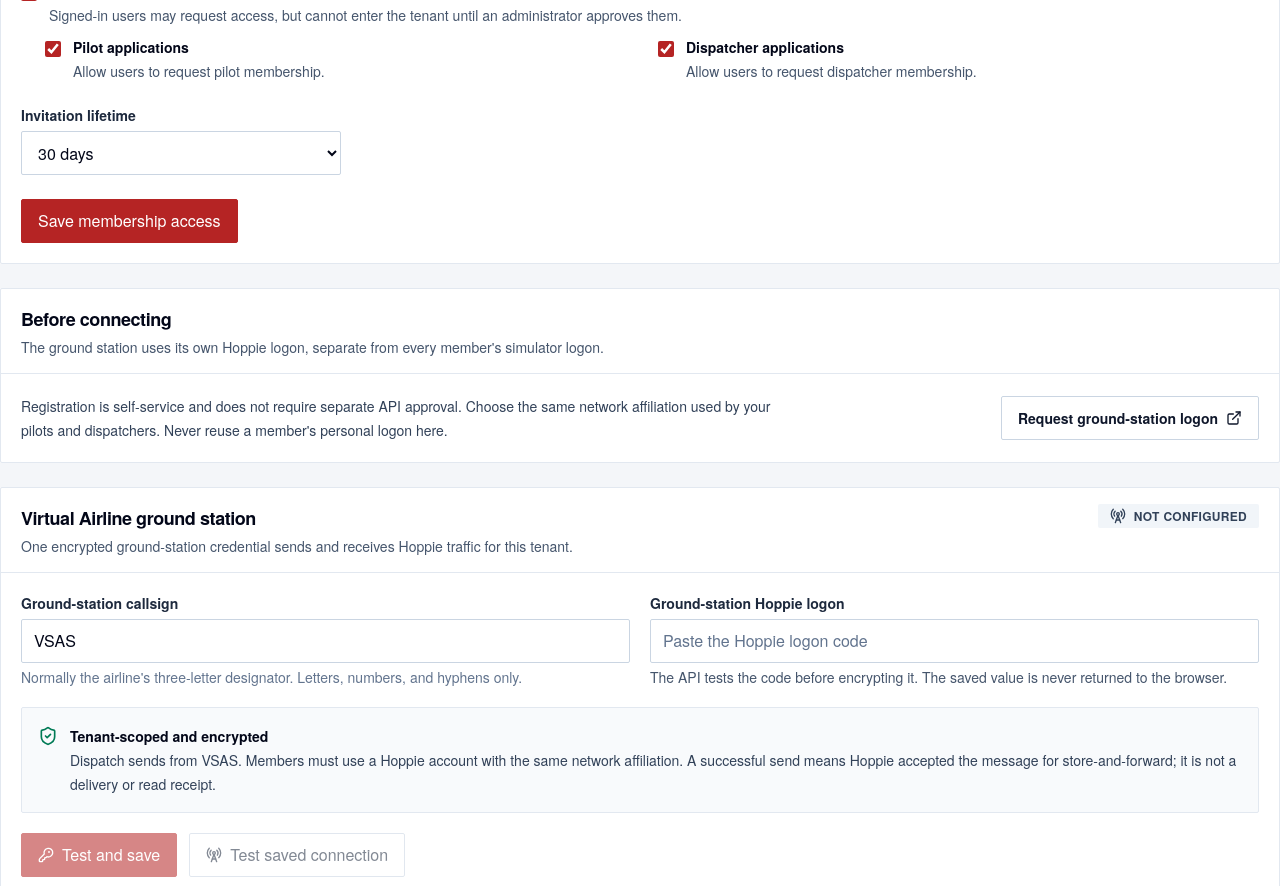
organization settings › tests and saves the tenant ground-station credential
This screenshot has width=1280, height=886.
(page scrolled)
Replace the text in the field labelled "Ground-station callsign" with "sas" at (326, 641), box [21, 619, 630, 663]
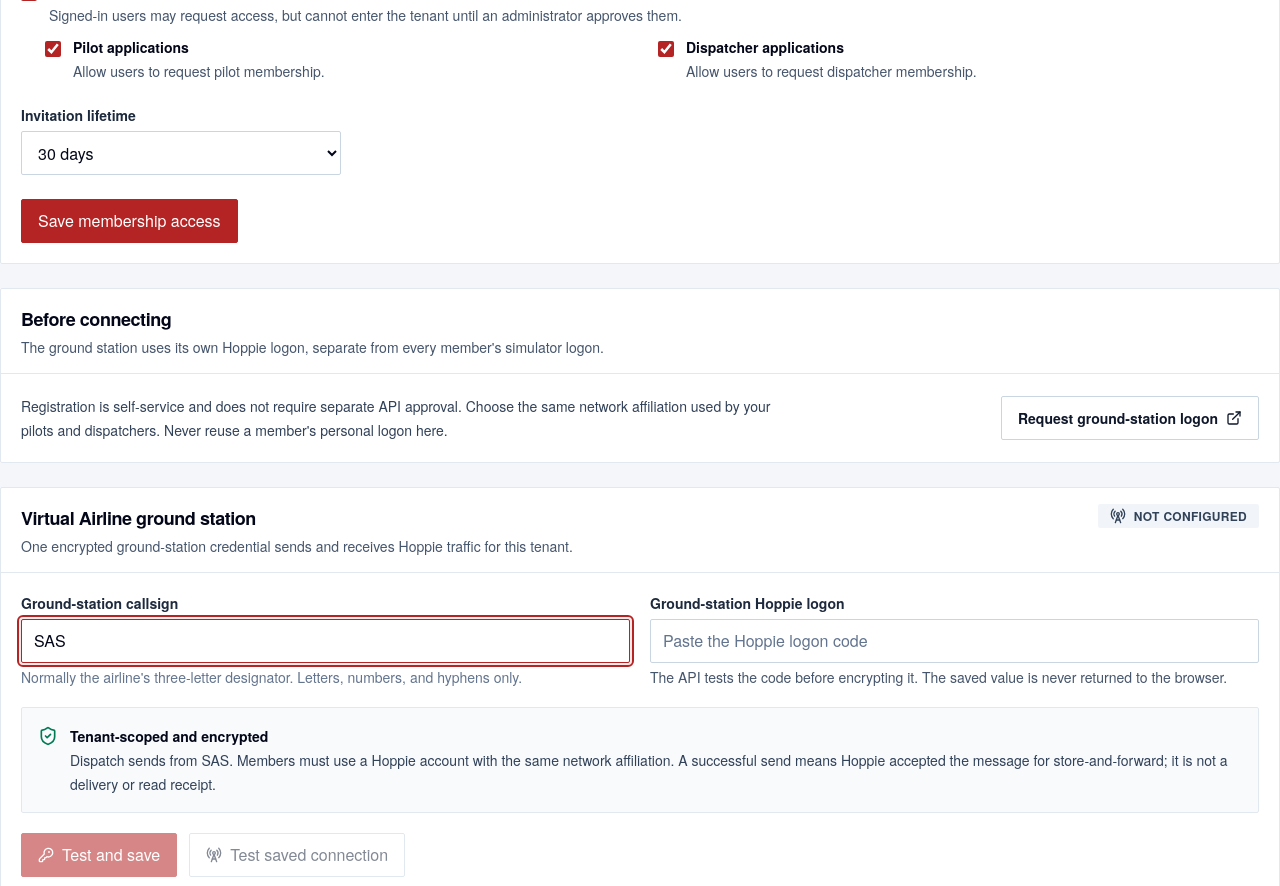
Type "private-logon" into the password field labelled "Ground-station Hoppie logon" at (954, 641), box [650, 619, 1259, 663]
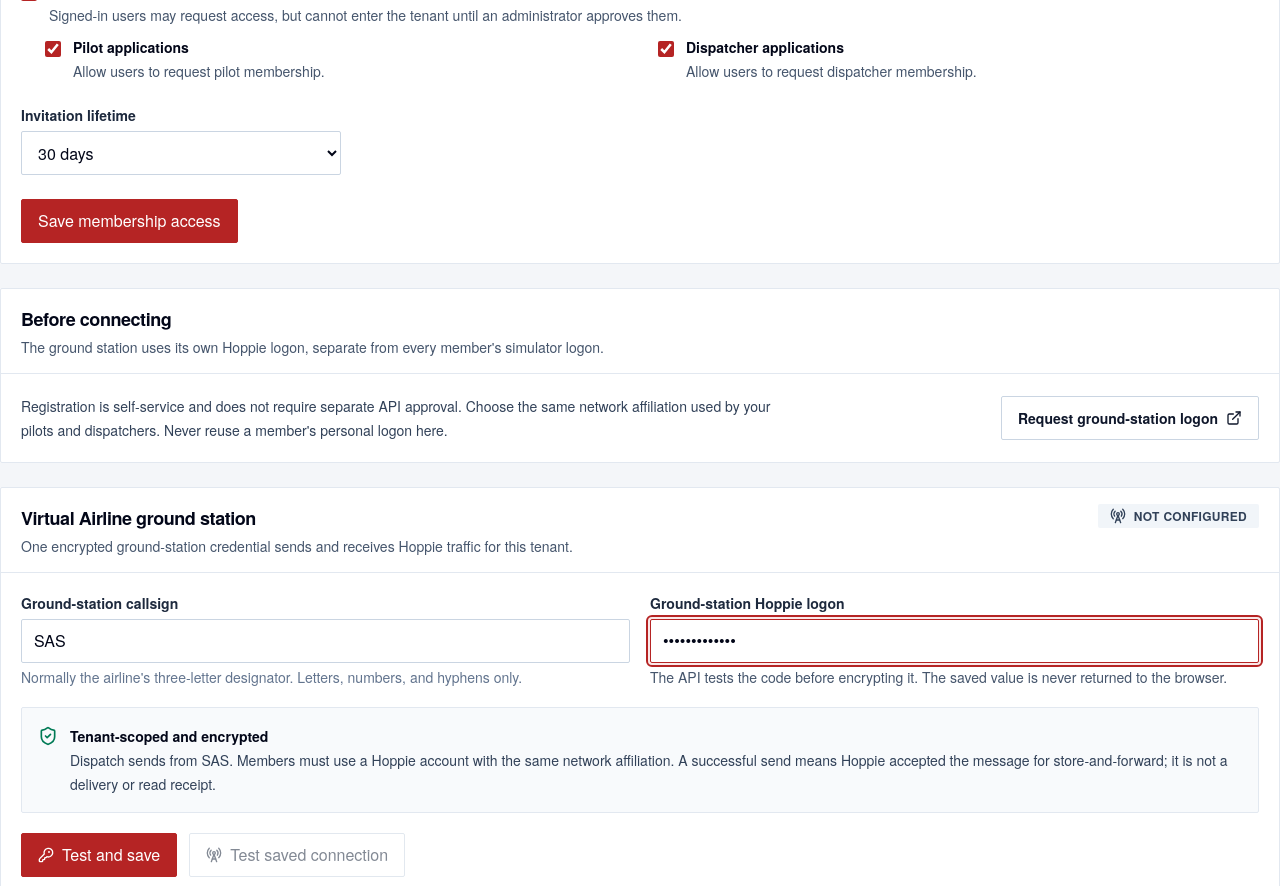
Click the button "Test and save" at (99, 855), box [21, 833, 177, 877]
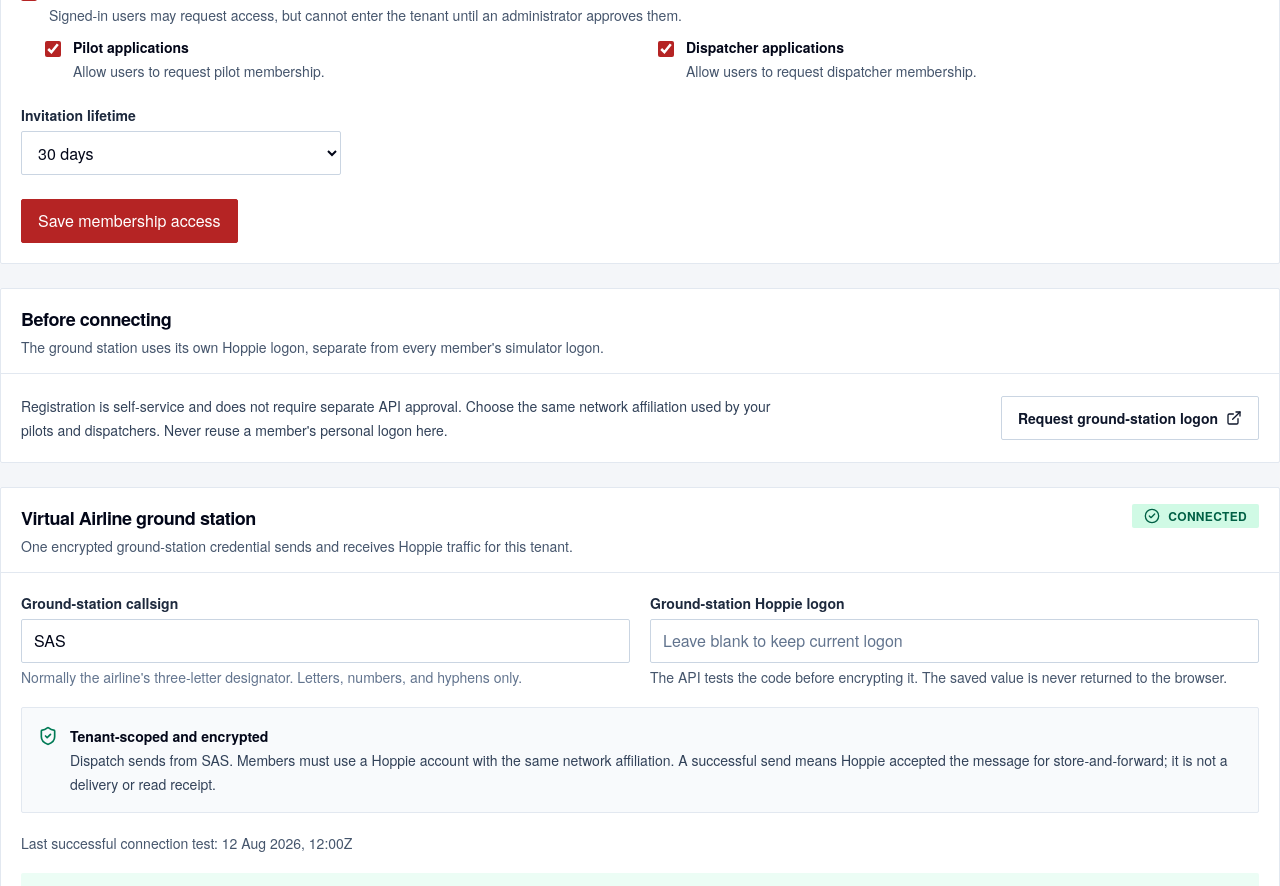
Result: the text "Connected" is shown at [1132, 504, 1259, 528]
